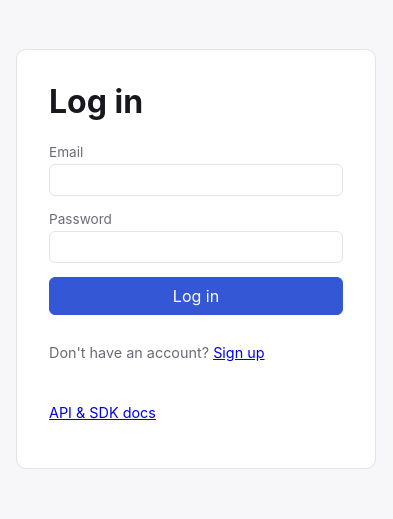
Test case: LoginPage › shows the server-provided error message when login fails
Type "jane@example.com" into the field labelled "Email". click: (196, 180)
box: x1=49 y1=164 x2=343 y2=196
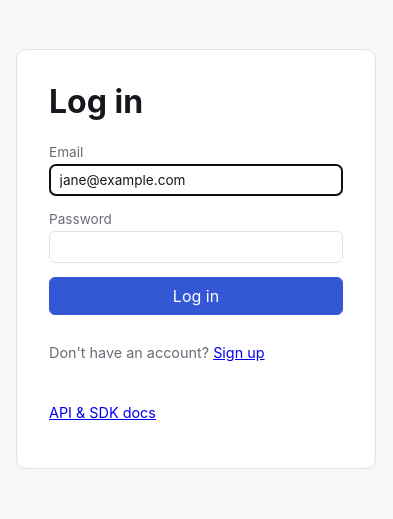
Type "wrong-password" into the password field labelled "Password". click: (196, 247)
box: x1=49 y1=230 x2=343 y2=263
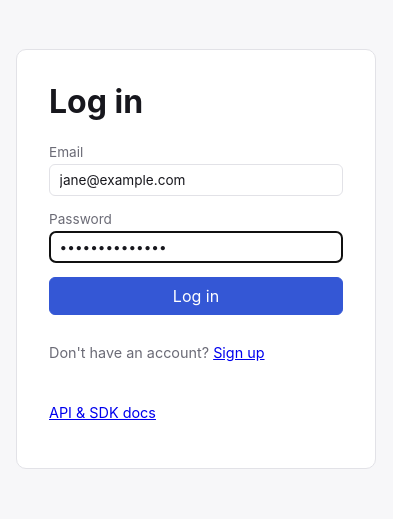
Click the button "Log in". click: (196, 296)
box: x1=49 y1=277 x2=343 y2=315
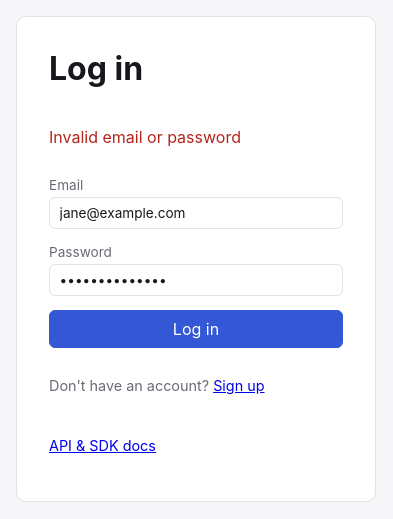
Expected: the text "Invalid email or password" is shown, x1=49 y1=127 x2=241 y2=147
